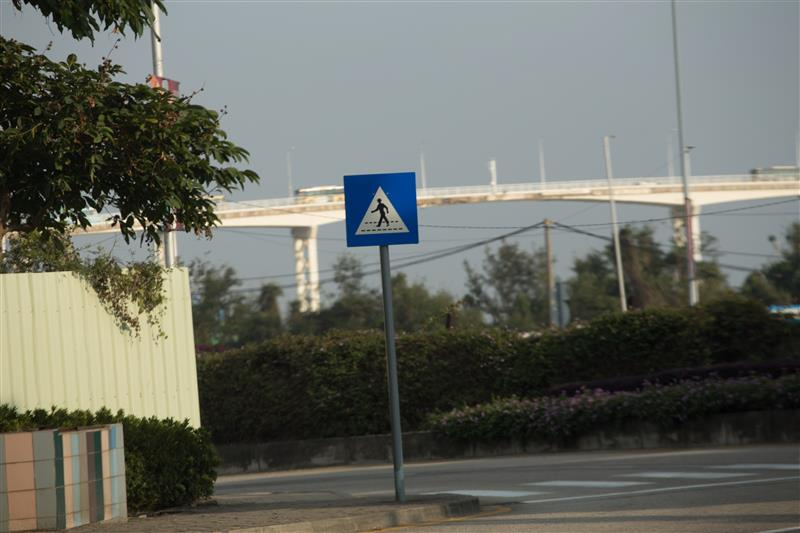pedestrianCrossing: (343, 170, 420, 250)
